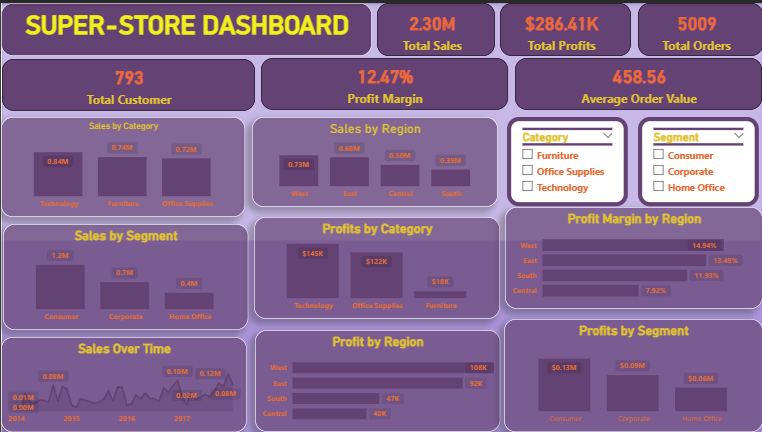

What the dashboard file says about the page in this screenshot:
{"tool":"powerbi","page":{"name":"Page 1","canvas":[1280,720],"ordinal":0},"visuals":[{"type":"textbox","box":[1.7,0,1276.6,399.8],"z":0},{"type":"textbox","box":[1.7,0,1276.6,720.6],"z":500},{"type":"textbox","box":[1.7,0,1276.6,399.8],"z":750},{"type":"card","fields":{"Values":["Sample - Superstore.Total Sales"]},"box":[631.6,0,198.2,89],"z":1000},{"type":"card","fields":{"Values":["Sample - Superstore.Total Profits"]},"box":[838.2,0,220.1,89],"z":2000},{"type":"card","fields":{"Values":["Sample - Superstore.Total Orders"]},"box":[1070,0,210,89],"z":3000},{"type":"card","fields":{"Values":["Sample - Superstore.Profit Margin"]},"box":[437,91.8,415,87],"z":4000},{"type":"card","fields":{"Values":["Sample - Superstore.Total Customer"]},"box":[1.7,94.1,425,87.3],"z":5000},{"type":"card","fields":{"Values":["Sample - Superstore.Average Order Value"]},"box":[863.4,92.4,415,87],"z":6000},{"type":"clusteredColumnChart","fields":{"Y":["Sum(Sample - Superstore.Sales)"],"Category":["Sample - Superstore.Category"]},"box":[0,191.5,409.9,168],"z":7000},{"type":"clusteredColumnChart","fields":{"Y":["Sum(Sample - Superstore.Sales)"],"Category":["Sample - Superstore.Region"]},"box":[421.6,191.5,413.2,151.2],"z":8000},{"type":"clusteredColumnChart","fields":{"Y":["Sum(Sample - Superstore.Sales)"],"Category":["Sample - Superstore.Segment"]},"box":[3.4,371.2,411.5,178.1],"z":9000},{"type":"lineChart","title":"Sales Over Time","fields":{"Y":["Sum(Sample - Superstore.Sales)"],"Category":["Sample - Superstore.Order Date.Variation.Date Hierarchy.Year","Sample - Superstore.Order Date.Variation.Date Hierarchy.Month"]},"box":[0,561,413.2,159.6],"z":10000},{"type":"clusteredColumnChart","fields":{"Y":["Sample - Superstore.Total Profits"],"Category":["Sample - Superstore.Category"]},"box":[425,359.5,413.2,171.3],"z":11000},{"type":"clusteredBarChart","fields":{"Y":["Sum(Sample - Superstore.Profit)"],"Category":["Sample - Superstore.Region"]},"box":[426.7,549.3,411.5,171.3],"z":12000},{"type":"clusteredColumnChart","fields":{"Y":["Sample - Superstore.Total Profits"],"Category":["Sample - Superstore.Segment"]},"box":[844.9,530.8,435.1,189.8],"z":13000},{"type":"clusteredBarChart","fields":{"Y":["Sample - Superstore.Profit Margin"],"Category":["Sample - Superstore.Region"]},"box":[846.6,342.7,433.4,171.3],"z":14000},{"type":"slicer","fields":{"Values":["Sample - Superstore.Category"]},"box":[850,191.5,203.3,149.5],"z":15000},{"type":"slicer","fields":{"Values":["Sample - Superstore.Segment"]},"box":[1070,191.5,203.3,149.5],"z":16000},{"type":"textbox","box":[0,0,623.2,89],"z":17000}]}

Visuals, with their boxes in screenshot pixels (x1, y1, x2, y2), scaled from the page's 1280x720 canvas onto the 762x432 screenshot:
textbox: 1/0/761/240
textbox: 1/0/761/431
textbox: 1/0/761/240
card - Sample - Superstore.Total Sales: 376/0/494/53
card - Sample - Superstore.Total Profits: 499/0/630/53
card - Sample - Superstore.Total Orders: 637/0/761/53
card - Sample - Superstore.Profit Margin: 260/55/507/107
card - Sample - Superstore.Total Customer: 1/56/254/109
card - Sample - Superstore.Average Order Value: 514/55/761/108
clusteredColumnChart - Sum(Sample - Superstore.Sales) x Sample - Superstore.Category: 0/115/244/216
clusteredColumnChart - Sum(Sample - Superstore.Sales) x Sample - Superstore.Region: 251/115/497/206
clusteredColumnChart - Sum(Sample - Superstore.Sales) x Sample - Superstore.Segment: 2/223/247/330
"Sales Over Time" lineChart: 0/337/246/431
clusteredColumnChart - Sample - Superstore.Total Profits x Sample - Superstore.Category: 253/216/499/318
clusteredBarChart - Sum(Sample - Superstore.Profit) x Sample - Superstore.Region: 254/330/499/431
clusteredColumnChart - Sample - Superstore.Total Profits x Sample - Superstore.Segment: 503/318/761/431
clusteredBarChart - Sample - Superstore.Profit Margin x Sample - Superstore.Region: 504/206/761/308
slicer - Sample - Superstore.Category: 506/115/627/205
slicer - Sample - Superstore.Segment: 637/115/758/205
textbox: 0/0/371/53
